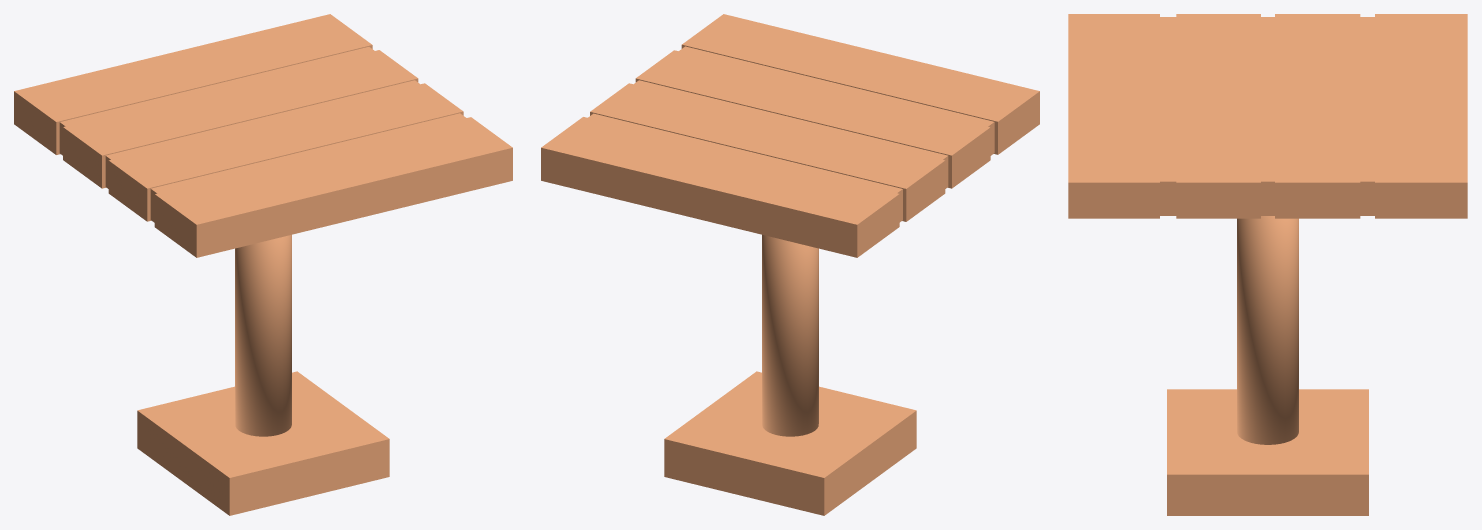
The model's file is SmallTable.fbx.
3 views of the same model, side by side, from view 1: azimuth 30°, elevation 25°; view 2: azimuth 150°, elevation 25°; view 3: azimuth 270°, elevation 25° (orthographic). The views are drawn at different scales.
Parts seen in each view (by area): view 1: Table.001; view 2: Table.001; view 3: Table.001.
Boxes of the visible parts, x1,y1,x2,y2 form: Table.001: (14,14,512,515); Table.001: (541,14,1039,515); Table.001: (1068,14,1467,515).
Bounding box in the file's own units: 103 × 107 × 103.
